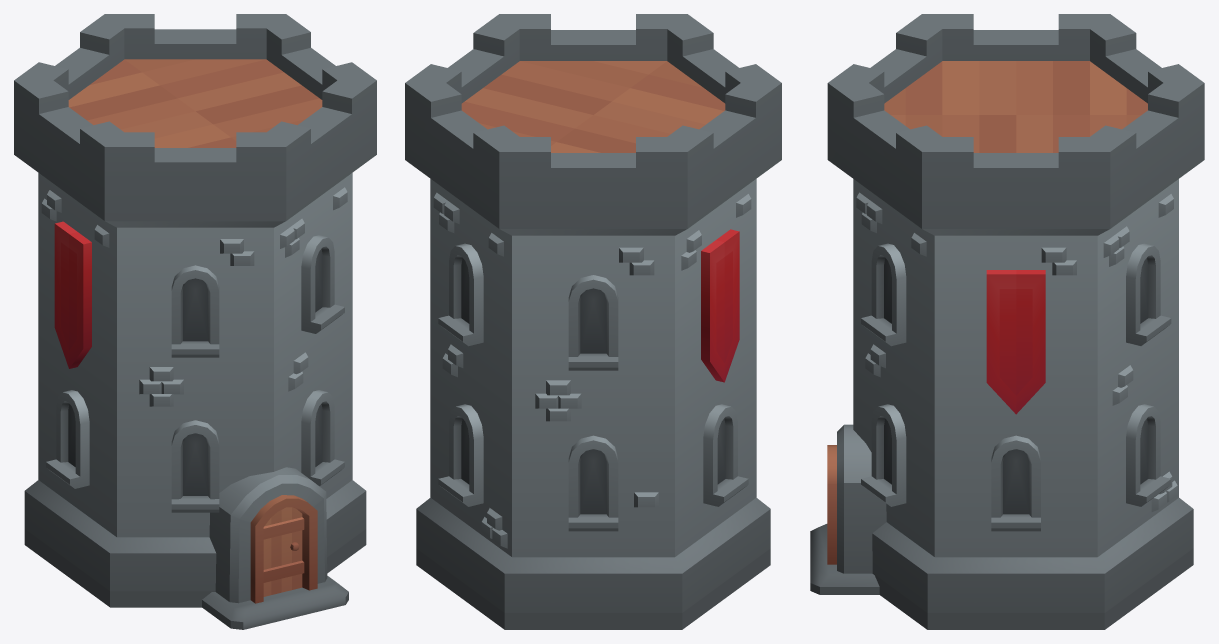
Rendered from building_tower_base_red.gltf.
3 renders of one model, left to right at view 1: azimuth 30°, elevation 25°; view 2: azimuth 150°, elevation 25°; view 3: azimuth 270°, elevation 25°, orthographic. The views are drawn at different scales.
Parts seen in each view (by area): view 1: building_tower_base_red; view 2: building_tower_base_red; view 3: building_tower_base_red.
Boxes of the visible parts, x1,y1,x2,y2 form: building_tower_base_red: [14, 14, 376, 629]; building_tower_base_red: [405, 14, 781, 629]; building_tower_base_red: [810, 14, 1204, 629].
Bounding box in the file's own units: 0.9297 × 1.5 × 1.11.
1 material, 1 textured.
